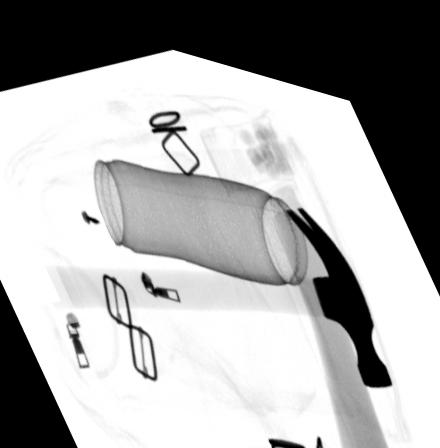Hammer: (54, 188, 397, 369)
